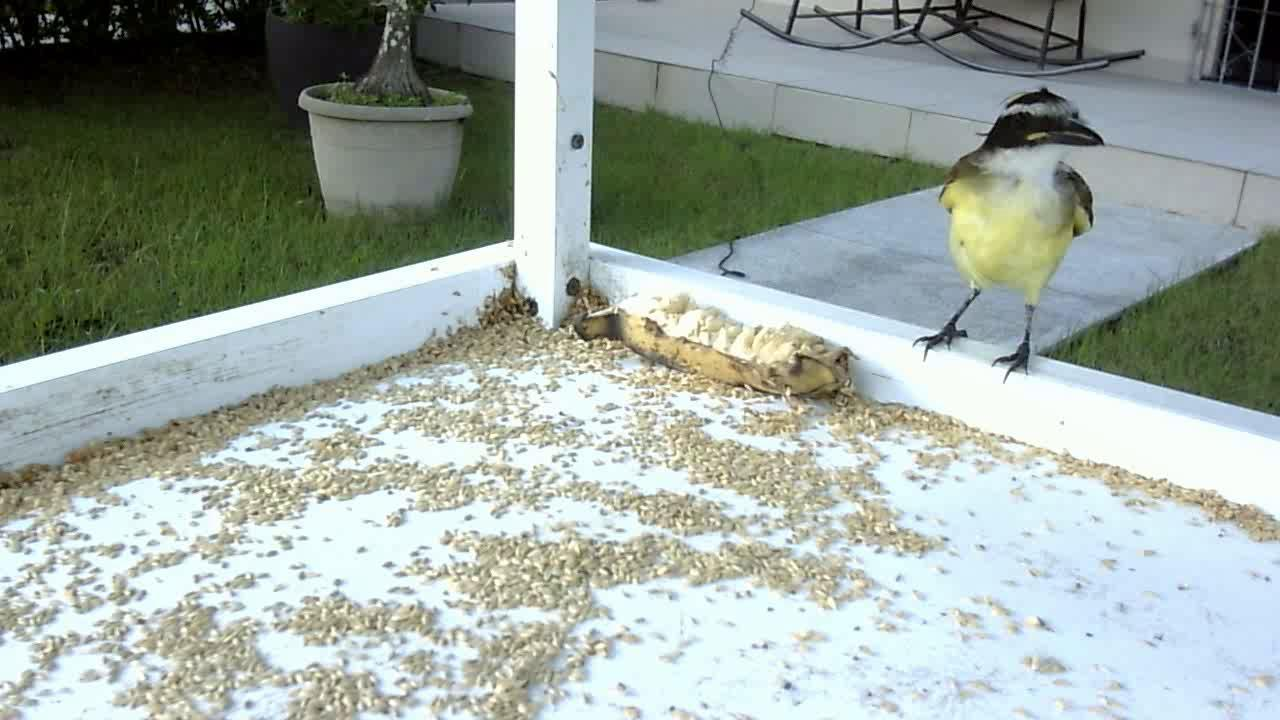bem_te_vi: (896, 85, 1109, 393)
